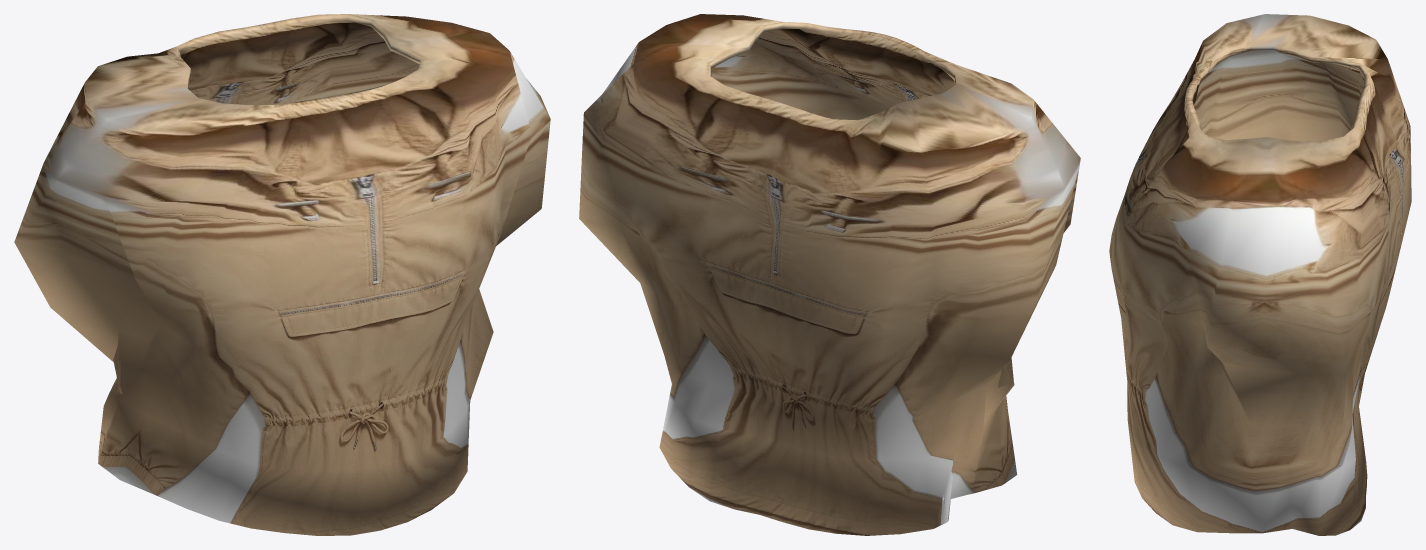
File: 8c656bc6-fdb9-4d3b-8518-659e17ff8b76.glb
3 views of the same model, side by side, from view 1: azimuth 30°, elevation 25°; view 2: azimuth 150°, elevation 25°; view 3: azimuth 270°, elevation 25° (orthographic). The views are drawn at different scales.
Parts seen in each view (by area): view 1: garment; view 2: garment; view 3: garment.
Part boxes in pixels (left/top/right/bottom): garment: left=14, top=14, right=550, bottom=535; garment: left=579, top=14, right=1080, bottom=535; garment: left=1109, top=14, right=1411, bottom=535.
Size of the model in its own units: 0.5483 by 0.4613 by 0.3221.
Materials: 1 (1 with a texture image).
